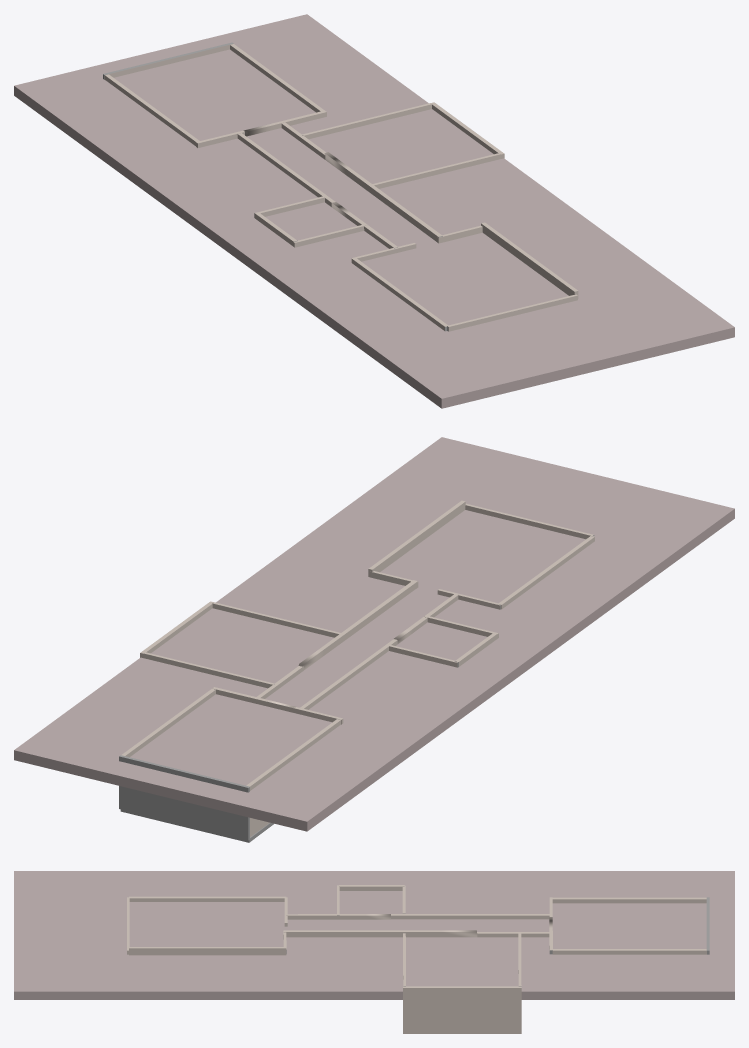
The model's file is level map FMP .fbx.
The picture shows the model from 3 angles, top to bottom: view 1: azimuth 30°, elevation 25°; view 2: azimuth 150°, elevation 25°; view 3: azimuth 270°, elevation 25°; orthographic projection. The views are drawn at different scales.
Parts seen in each view (by area): view 1: pCube30, pCube12, pCube28, pCube22, pCube17, pCube18, pCube6, pCube29, pCube13, pCube4, pCube5; view 2: pCube30, pCube6, pCube12, pCube28, pCube4, pCube17, pCube18, pCube22, pCube29, pCube13, pCube5; view 3: pCube30, pCube19, pCube12, pCube28, pCube4, pCube13, pCube29, pCube5, pCube14, pCube11, pCube26.
Boxes of the visible parts, bbox=[...] form: pCube30: bbox=[14, 14, 734, 408]; pCube12: bbox=[324, 152, 442, 241]; pCube28: bbox=[481, 222, 578, 298]; pCube22: bbox=[447, 294, 577, 331]; pCube17: bbox=[302, 103, 432, 139]; pCube18: bbox=[372, 153, 500, 188]; pCube6: bbox=[103, 42, 233, 79]; pCube29: bbox=[351, 257, 447, 331]; pCube13: bbox=[237, 133, 335, 206]; pCube4: bbox=[105, 74, 199, 145]; pCube5: bbox=[230, 44, 324, 112]; pCube30: bbox=[14, 437, 734, 831]; pCube6: bbox=[119, 755, 249, 840]; pCube12: bbox=[298, 580, 417, 669]; pCube28: bbox=[368, 500, 465, 577]; pCube4: bbox=[246, 719, 340, 836]; pCube17: bbox=[144, 652, 274, 688]; pCube18: bbox=[212, 602, 340, 637]; pCube22: bbox=[465, 503, 594, 539]; pCube29: bbox=[498, 536, 594, 609]; pCube13: bbox=[300, 639, 397, 709]; pCube5: bbox=[121, 688, 215, 757]; pCube30: bbox=[14, 871, 734, 999]; pCube19: bbox=[403, 986, 521, 1033]; pCube12: bbox=[283, 930, 477, 937]; pCube28: bbox=[129, 947, 286, 955]; pCube4: bbox=[552, 897, 706, 903]; pCube13: bbox=[391, 914, 549, 919]; pCube29: bbox=[129, 896, 286, 901]; pCube5: bbox=[552, 949, 706, 954]; pCube14: bbox=[286, 914, 390, 919]; pCube11: bbox=[477, 932, 549, 937]; pCube26: bbox=[339, 885, 404, 890].
Size of the model in its own units: 11448 by 2192 by 28885.
